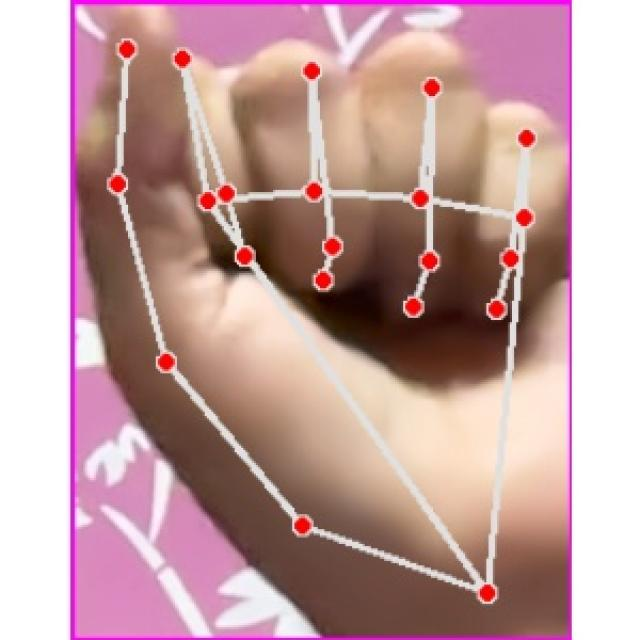A: (76, 0, 571, 637)
